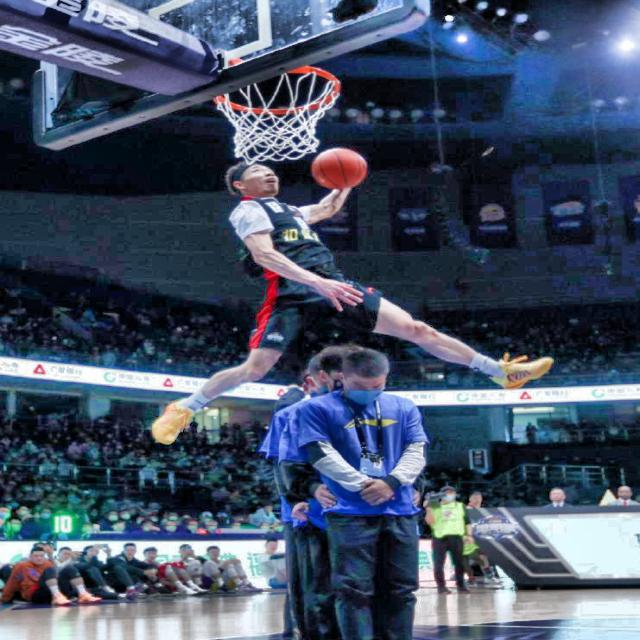board: (310, 148, 366, 190)
rim: (211, 65, 343, 159)
